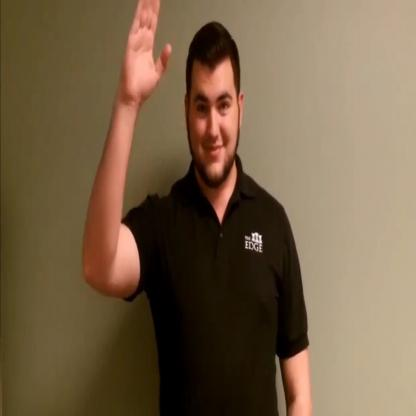Hello: (111, 0, 249, 251)
